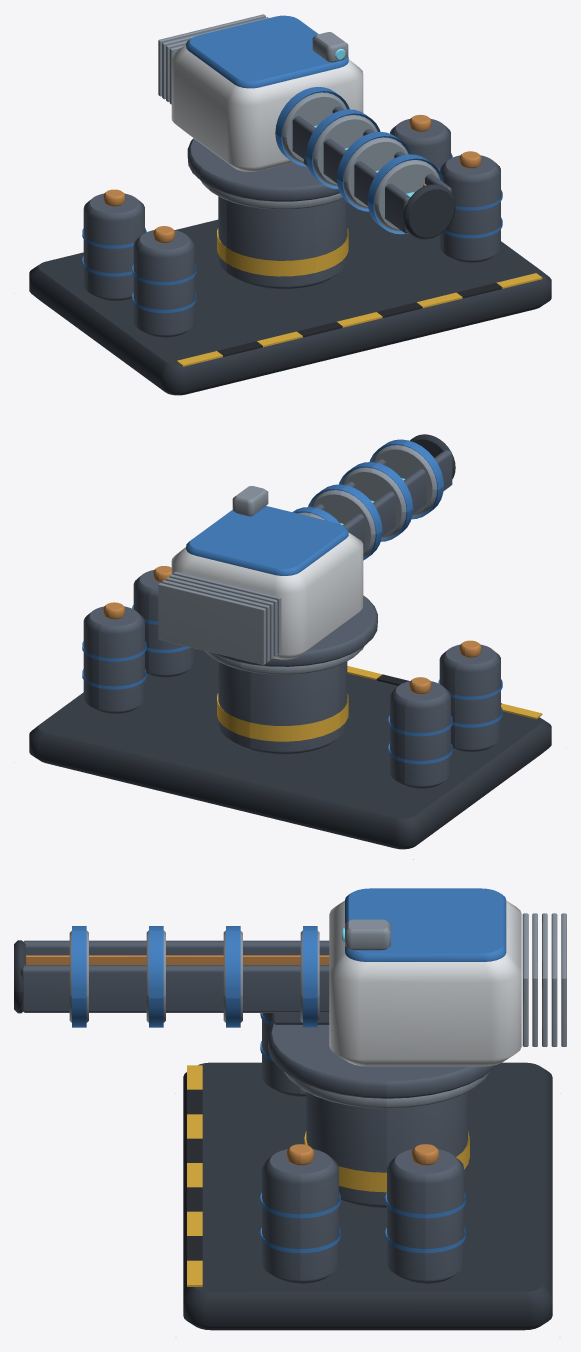
Rendered from tourelle_rail.glb.
3 views of the same model, one above another, from view 1: azimuth 30°, elevation 25°; view 2: azimuth 150°, elevation 25°; view 3: azimuth 270°, elevation 25° (orthographic). The views are drawn at different scales.
Parts seen in each view (by area): view 1: pieces_av_fonce.002, pieces_av_sombre.002, tourelle_av_blanc.002, tourelle_av_bleu.002, tourelle_av_gris.002, tourelle_av_sombre.002, pieces_av_jaune.002, tourelle_av_fonce.002, pieces_av_bleu.002, pieces_av_cable.002, pieces_av_cuivre.002, pieces_av_gris.002; view 2: pieces_av_fonce.002, pieces_av_sombre.002, tourelle_av_gris.002, tourelle_av_bleu.002, tourelle_av_blanc.002, tourelle_av_sombre.002, pieces_av_jaune.002, pieces_av_bleu.002, pieces_av_cuivre.002, pieces_av_gris.002, tourelle_av_fonce.002; view 3: pieces_av_fonce.002, pieces_av_sombre.002, tourelle_av_sombre.002, tourelle_av_blanc.002, tourelle_av_bleu.002, tourelle_av_gris.002, pieces_av_jaune.002, tourelle_av_cuivre.002, pieces_av_gris.002, pieces_av_bleu.002, pieces_av_cable.002, pieces_av_cuivre.002 (+1 smaller).
Boxes of the visible parts, x1,y1,x2,y2 form: pieces_av_fonce.002: (29, 202, 551, 395); pieces_av_sombre.002: (83, 119, 500, 337); tourelle_av_blanc.002: (171, 45, 363, 171); tourelle_av_bleu.002: (186, 15, 443, 234); tourelle_av_gris.002: (158, 14, 439, 231); tourelle_av_sombre.002: (187, 106, 452, 233); pieces_av_jaune.002: (177, 228, 542, 366); tourelle_av_fonce.002: (403, 184, 455, 239); pieces_av_bleu.002: (82, 153, 502, 313); pieces_av_cable.002: (217, 283, 502, 356); pieces_av_cuivre.002: (103, 114, 481, 242); pieces_av_gris.002: (201, 181, 342, 209); pieces_av_fonce.002: (29, 648, 551, 849); pieces_av_sombre.002: (83, 570, 500, 788); tourelle_av_gris.002: (158, 445, 437, 664); tourelle_av_bleu.002: (186, 439, 443, 575); tourelle_av_blanc.002: (171, 532, 363, 659); tourelle_av_sombre.002: (211, 450, 452, 666); pieces_av_jaune.002: (217, 666, 542, 741); pieces_av_bleu.002: (82, 604, 502, 764); pieces_av_cuivre.002: (103, 566, 481, 693); pieces_av_gris.002: (205, 646, 364, 674); tourelle_av_fonce.002: (410, 434, 455, 478); pieces_av_fonce.002: (183, 1062, 552, 1330); pieces_av_sombre.002: (262, 1013, 467, 1283); tourelle_av_sombre.002: (20, 940, 497, 1098); tourelle_av_blanc.002: (329, 900, 521, 1066); tourelle_av_bleu.002: (72, 888, 506, 1027); tourelle_av_gris.002: (69, 913, 566, 1046); pieces_av_jaune.002: (187, 1065, 469, 1286); tourelle_av_cuivre.002: (25, 955, 329, 964); pieces_av_gris.002: (284, 1071, 489, 1108); pieces_av_bleu.002: (260, 1013, 465, 1253); pieces_av_cable.002: (187, 1089, 202, 1260); pieces_av_cuivre.002: (287, 1144, 438, 1165).
Bounding box in the file's own units: 1.5 × 0.905 × 1.44.
